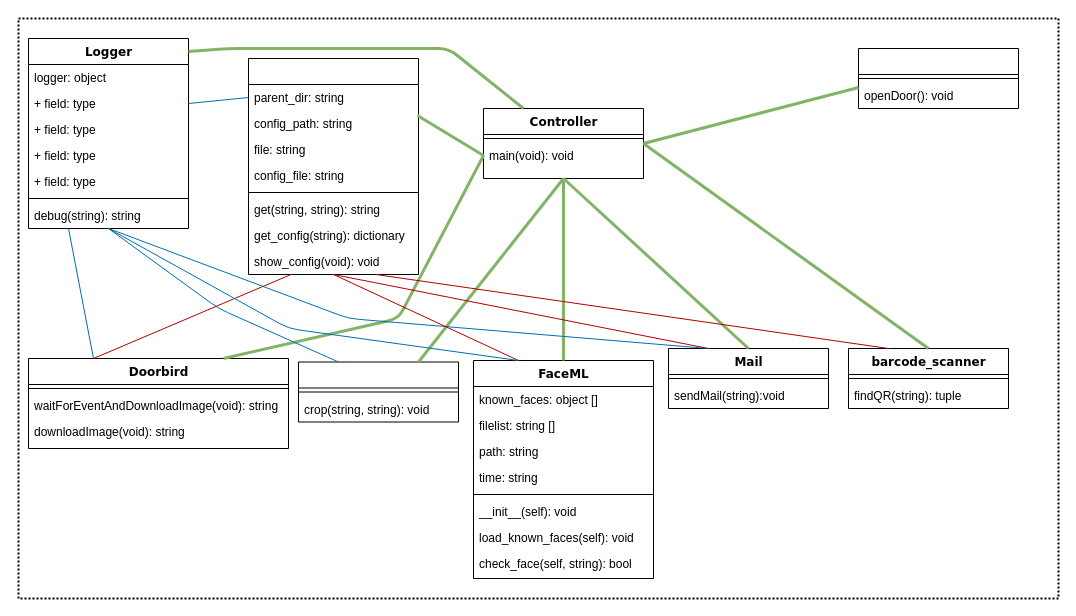
This 1076x616 diagram has some shape labels left out. The shapes that lost their labels are listed below. From the top down, each one's box as (x1, y1, x2, y2) in pixels, then its label:
(858, 48, 1018, 108): Danalock
(248, 58, 418, 274): Configurator
(298, 361, 458, 422): Cropper
